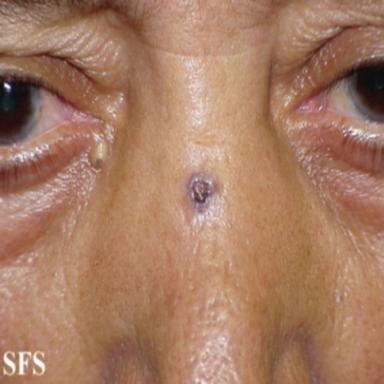basal-cell-carcinoma: (186, 168, 217, 213)
